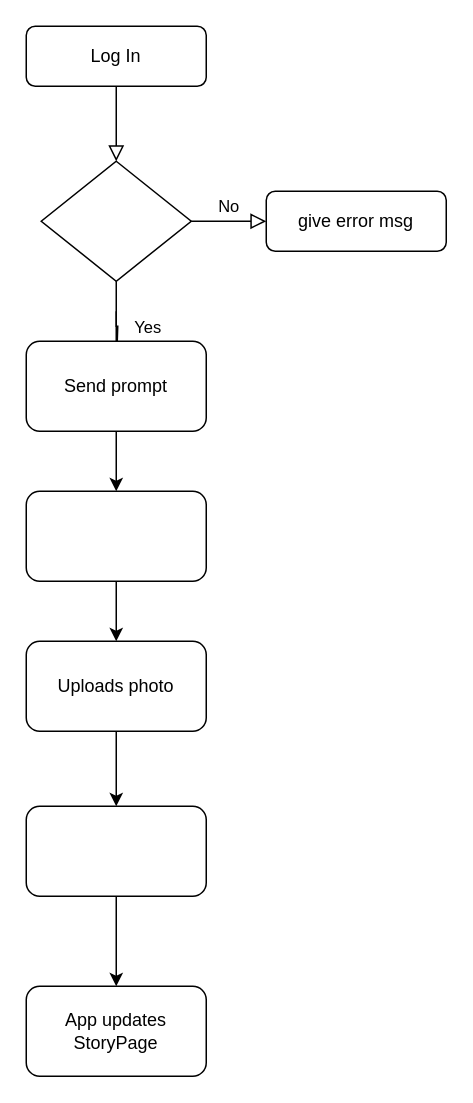
This 473x1103 diagram has some shape labels left out. The centre of each missing label's shape, as x and y in pixels:
"App stores photo" goes at (x=115, y=850).
"Authentication" goes at (x=115, y=220).
"User takes photo" goes at (x=115, y=535).
